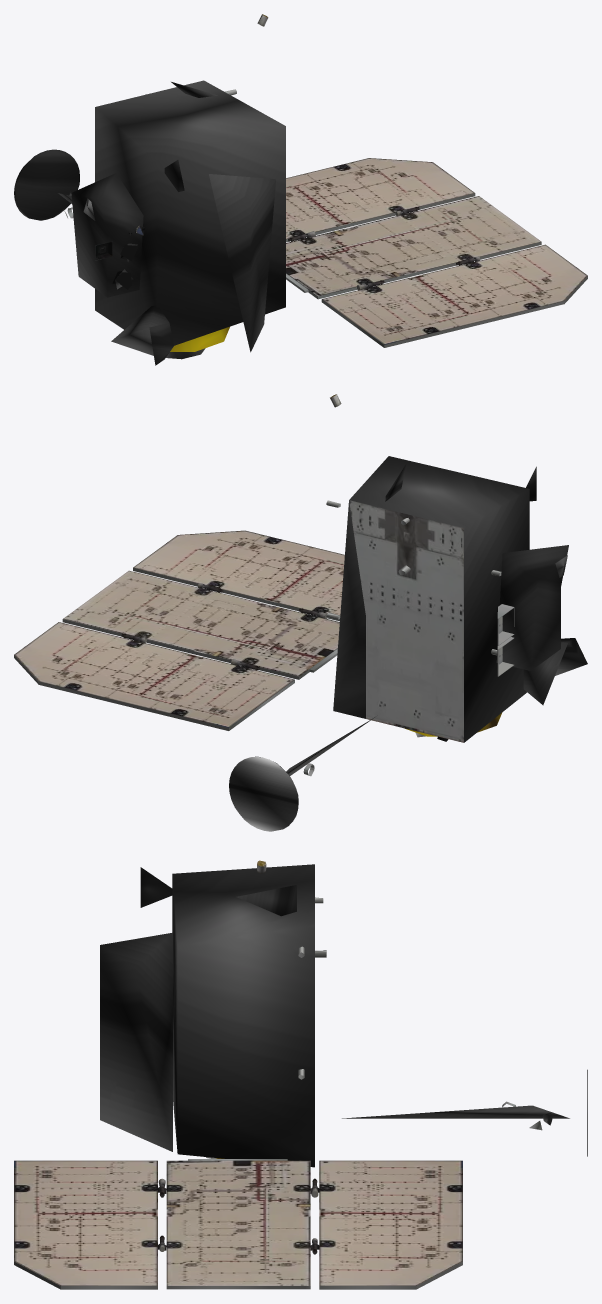
The model's file is lunar-reconnaissance-orbiter-b.glb.
3 renders of one model, top to bottom at view 1: azimuth 30°, elevation 25°; view 2: azimuth 150°, elevation 25°; view 3: azimuth 270°, elevation 25°, orthographic. The views are drawn at different scales.
Parts seen in each view (by area): view 1: foil_silver_dish, tex, dark_black, foil_gold; view 2: tex, foil_silver_dish, panel, dark_black; view 3: foil_silver_dish, tex, dark_black.
Part boxes in pixels (x1,y1,x2,y2): foil_silver_dish: (14,80,285,365); tex: (286,158,587,344); dark_black: (64,14,587,359); foil_gold: (170,326,229,351); tex: (14,530,344,727); foil_silver_dish: (229,456,587,831); panel: (349,500,463,742); dark_black: (14,394,514,776); foil_silver_dish: (100,864,587,1167); tex: (14,1160,462,1285); dark_black: (14,860,542,1289).
Size of the model in its own units: 5.45 by 3.66 by 5.38.
Materials: 5 (5 with a texture image).
